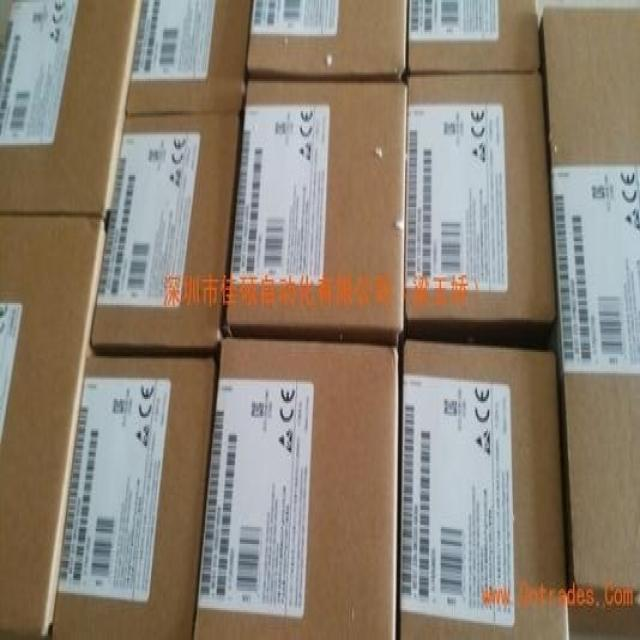box: (192, 339, 400, 638), (539, 6, 639, 593), (398, 342, 569, 638), (226, 81, 406, 346), (53, 358, 217, 638), (1, 212, 106, 638), (405, 76, 557, 325), (91, 113, 242, 352), (0, 0, 144, 218), (126, 0, 251, 112), (247, 1, 407, 81), (407, 0, 543, 73)
